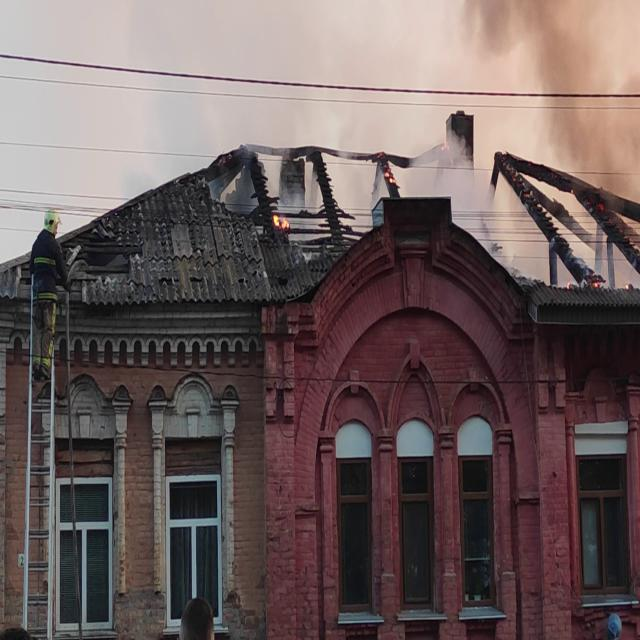smoke: (484, 0, 640, 183), (416, 134, 474, 210)
